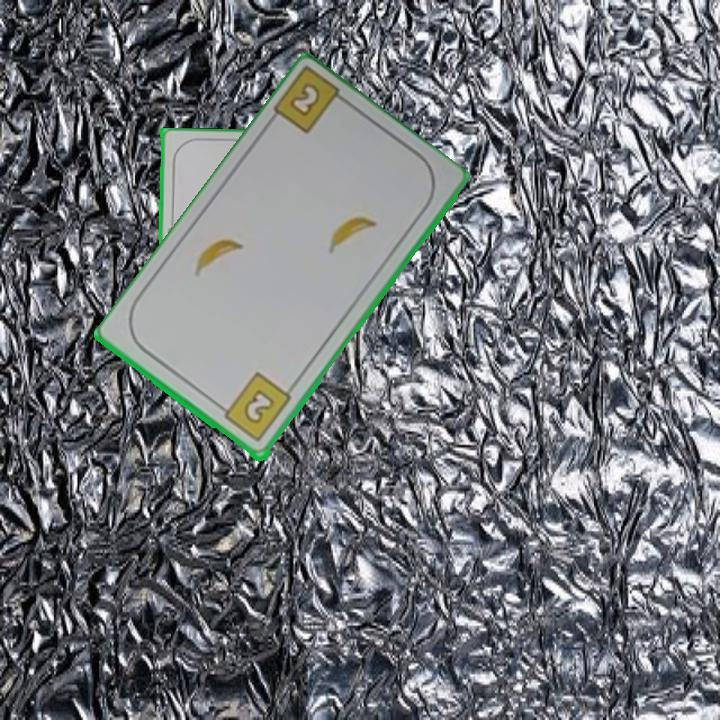2b: (214, 369, 295, 446), (286, 79, 324, 121)
